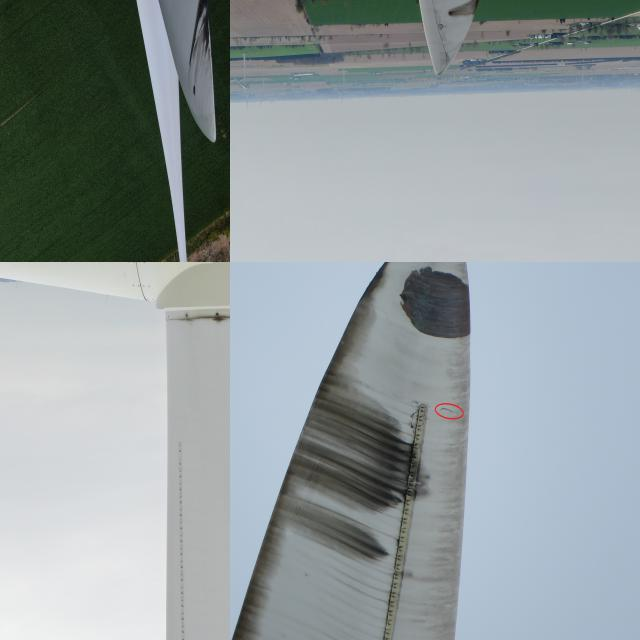damage: (389, 264, 482, 342), (181, 0, 220, 85), (444, 0, 481, 23)
